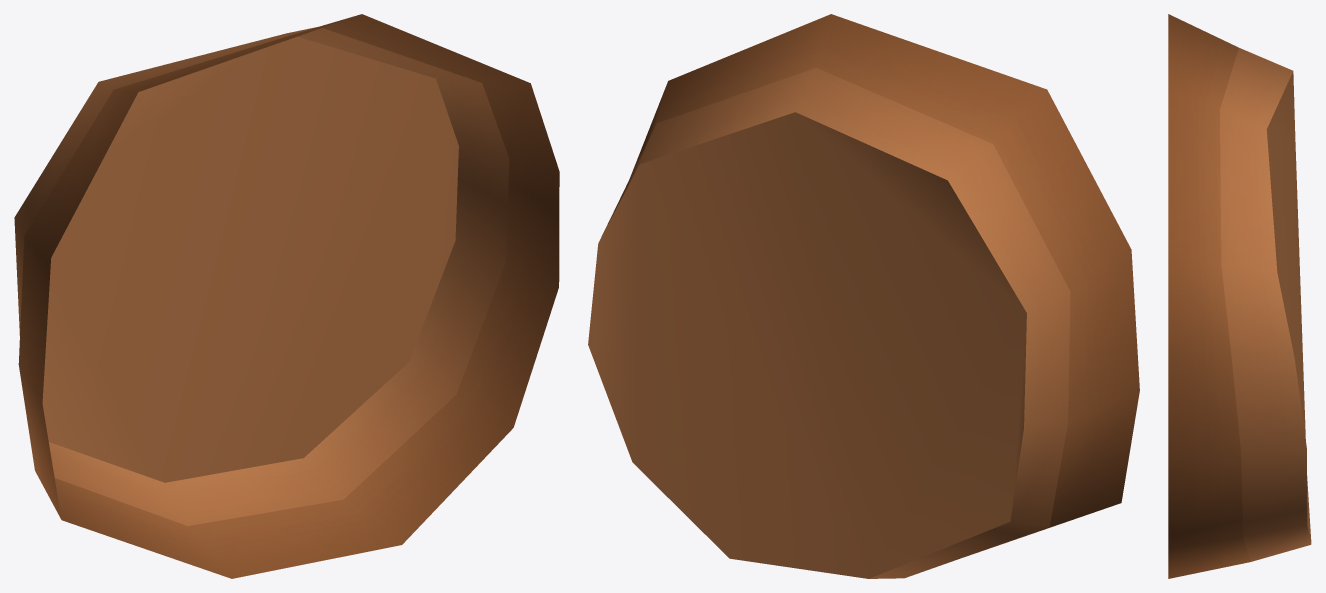
The model's file is Rock 02.FBX.
3 views of the same model, side by side, from view 1: azimuth 30°, elevation 25°; view 2: azimuth 150°, elevation 25°; view 3: azimuth 270°, elevation 25° (orthographic). The views are drawn at different scales.
Visible parts, largest first — view 1: Rock 02; view 2: Rock 02; view 3: Rock 02.
Boxes of the visible parts, bbox=[...] form: Rock 02: bbox=[14, 14, 559, 578]; Rock 02: bbox=[588, 14, 1139, 578]; Rock 02: bbox=[1168, 14, 1311, 578].
Bounding box in the file's own units: 239 × 239 × 65.41.
1 material, 1 textured.
